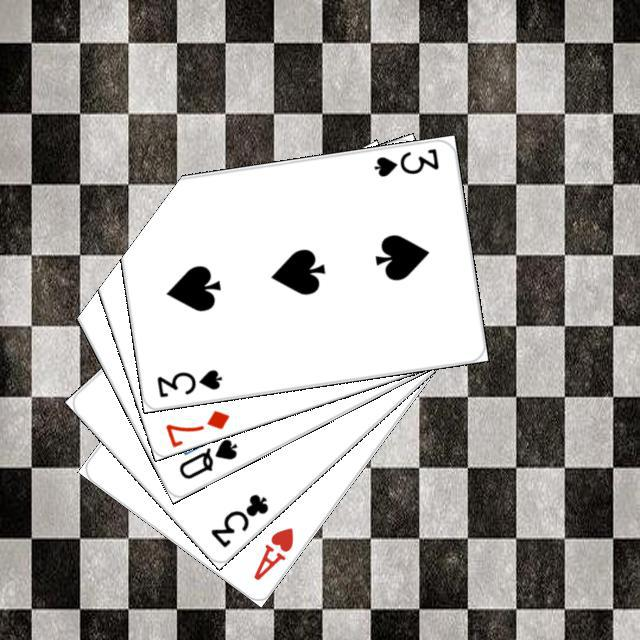3c: (205, 489, 270, 550)
3s: (369, 143, 441, 179), (152, 364, 224, 399)
7d: (160, 405, 231, 447)
Ah: (248, 522, 296, 583)
Qs: (174, 433, 239, 481)
